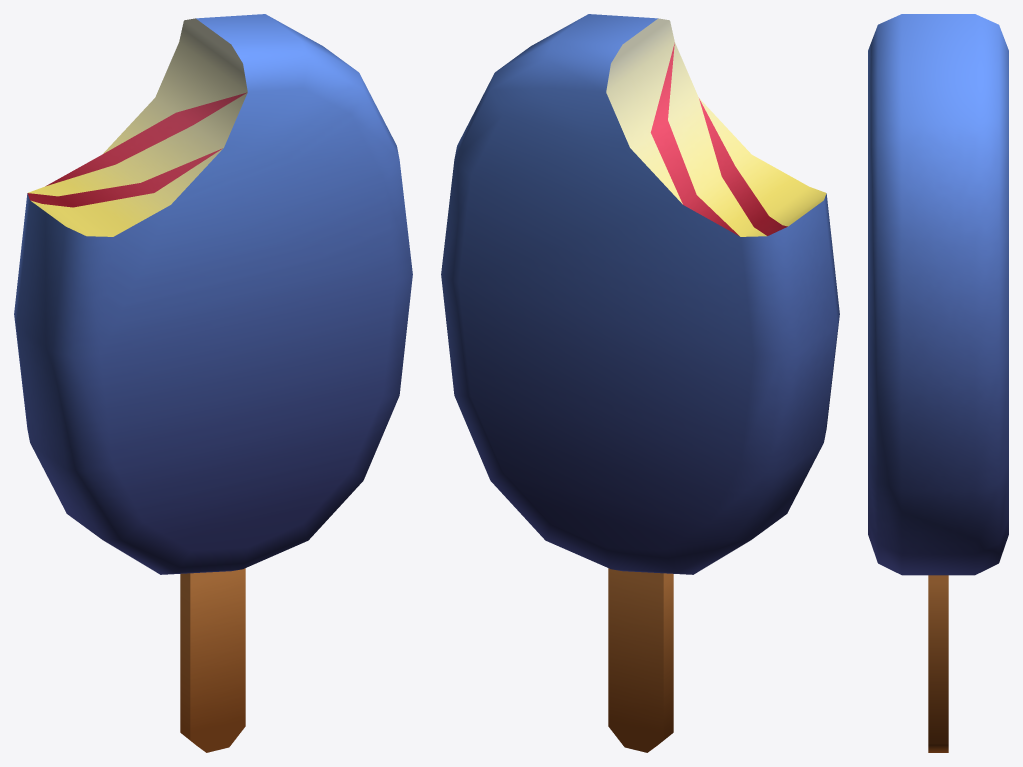
The model's file is m_BigPopsicle06.fbx.
3 renders of one model, left to right at view 1: azimuth 30°, elevation 25°; view 2: azimuth 150°, elevation 25°; view 3: azimuth 270°, elevation 25°, orthographic. The views are drawn at different scales.
Parts seen in each view (by area): view 1: m_BigPopsicle06; view 2: m_BigPopsicle06; view 3: m_BigPopsicle06.
Part boxes in pixels (x1=…): m_BigPopsicle06: x1=14, y1=14, x2=412, y2=752; m_BigPopsicle06: x1=441, y1=14, x2=839, y2=752; m_BigPopsicle06: x1=868, y1=14, x2=1008, y2=752.
Bounding box in the file's own units: 12.05 × 22.96 × 4.
